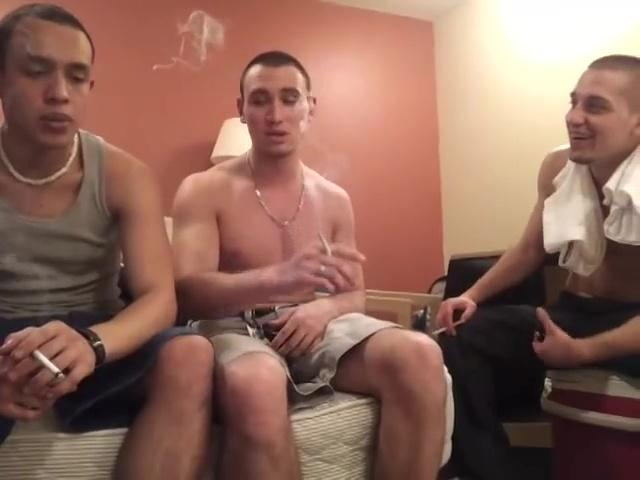cigarette: (30, 349, 66, 379), (432, 316, 466, 336), (316, 231, 334, 260)
